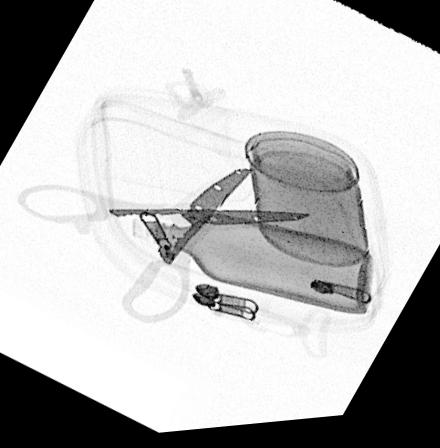Scissors: (11, 172, 309, 325)
